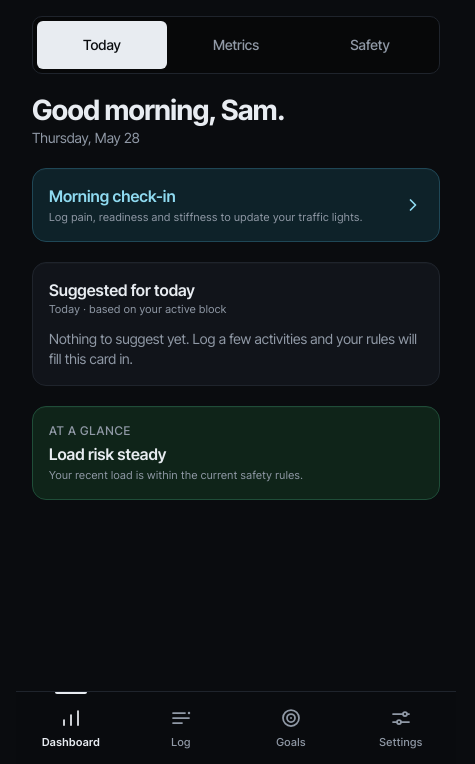
Test: App shell (F1.1) › shows Settings screen on Settings tab
Click the button "Settings" at (401, 728), box [346,692,456,763]
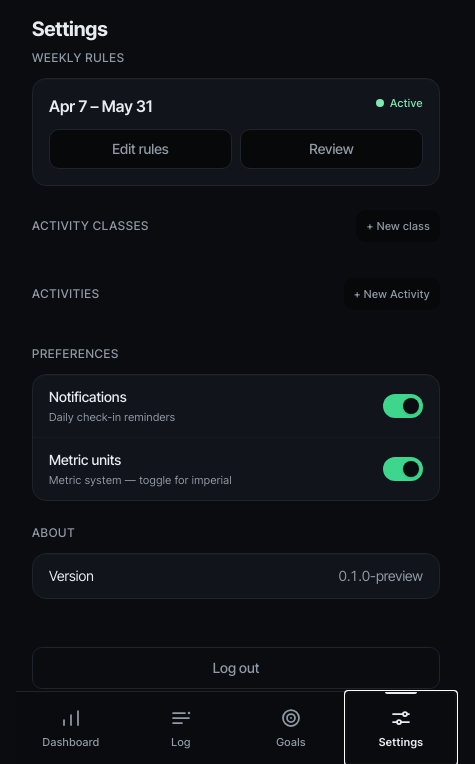
Check: the heading "Settings" is shown, box [32,17,108,41]
